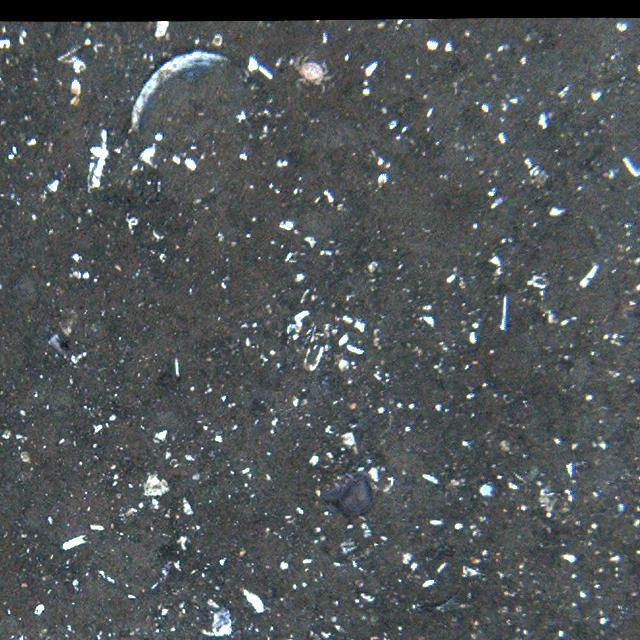crab: (288, 52, 338, 92)
